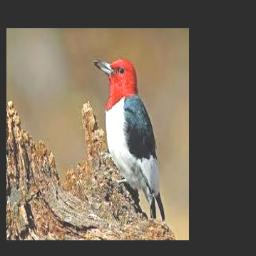Woodpecker: (94, 58, 165, 222)
